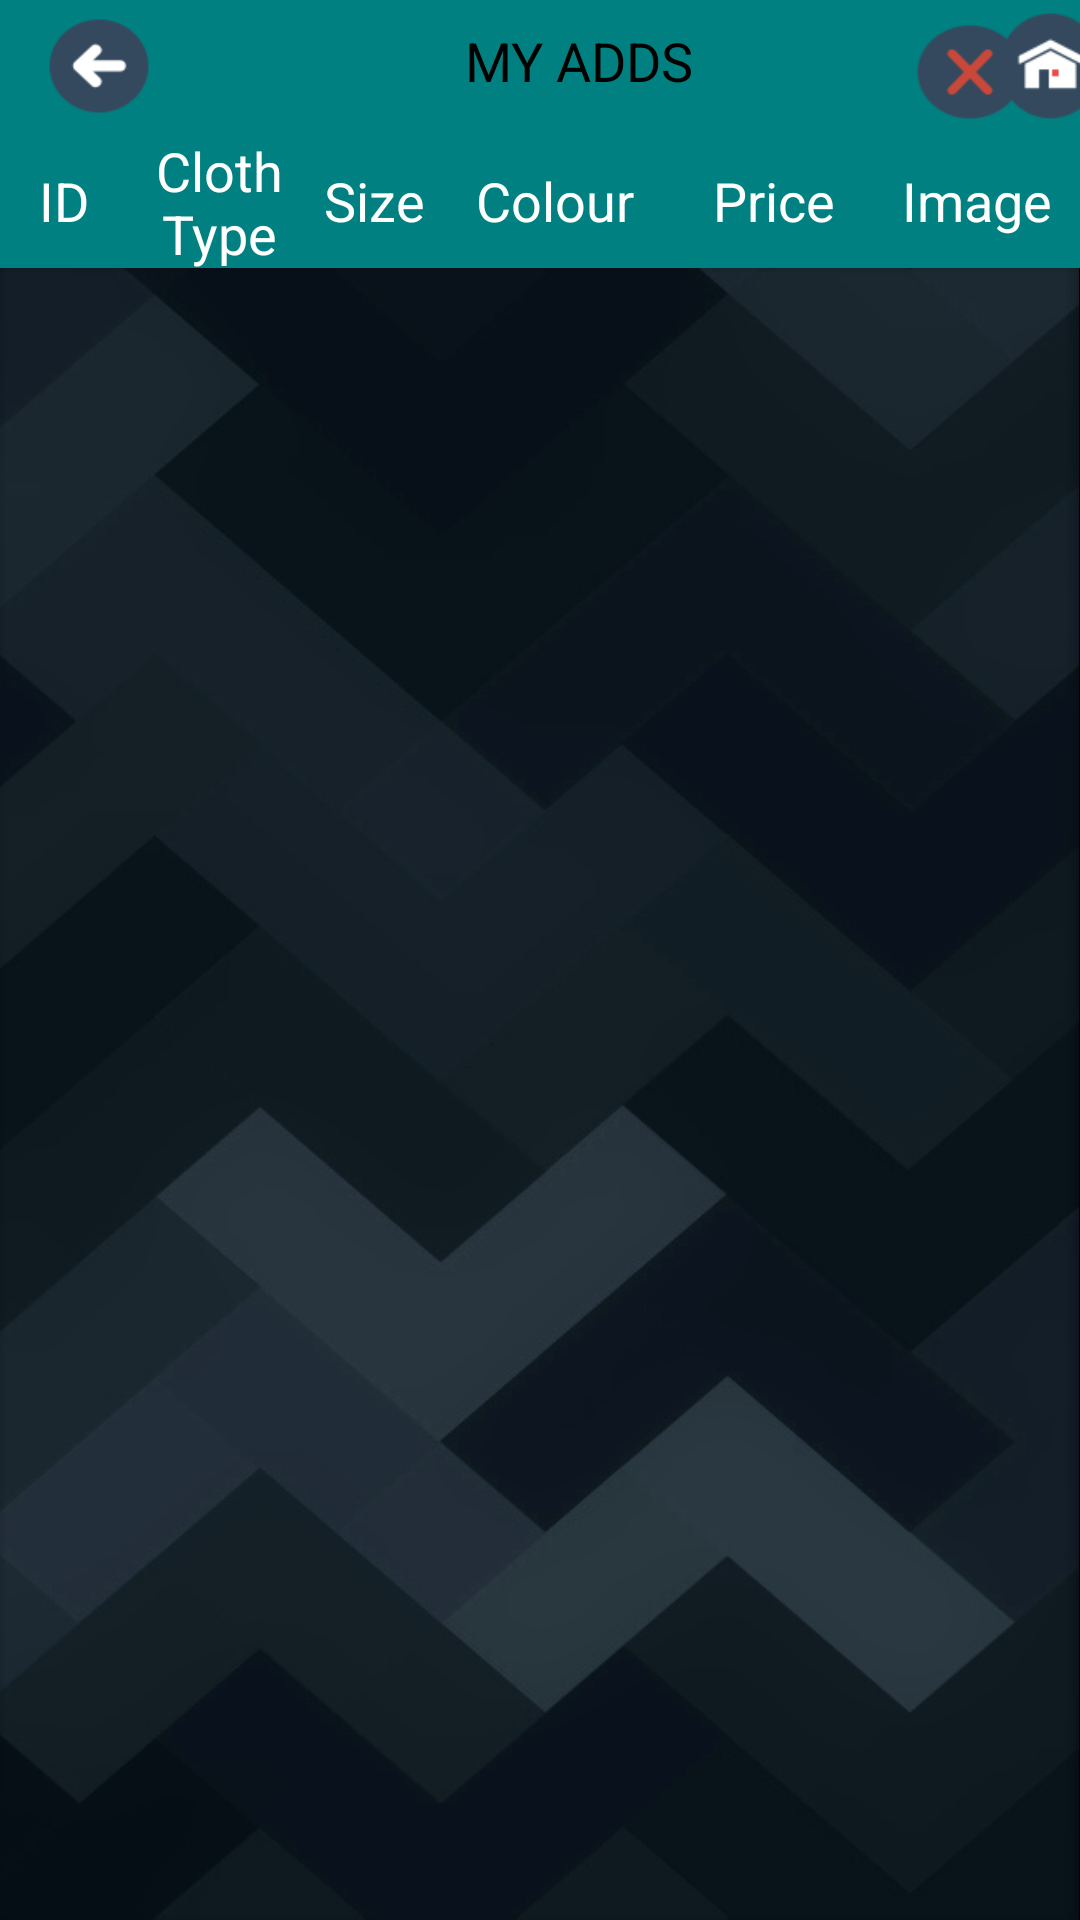

Icon click points for this 1080px x 1920px phone screenshot, format (x,y):
btnback ashfaq: (99,66)
delete: (971,71)
